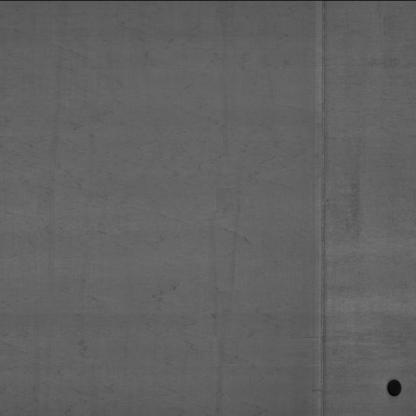punching_hole: (376, 373, 408, 399)
silk_spot: (6, 7, 262, 408)
welding_line: (308, 1, 336, 416)
